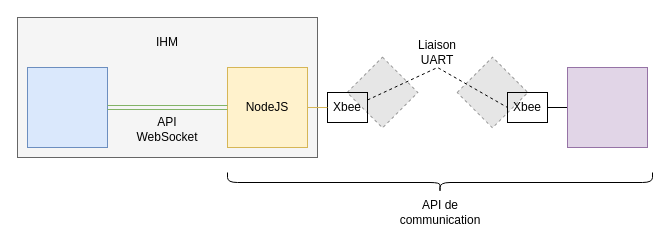
Some shapes in this 670 by 245 pixel diagram are drawn without their labels. Grey dashed boxes stand in for pictures. The centre of each missing label's shape, as x and y in pixels:
Interface Web: [67,107]
SMT32: [607,107]
